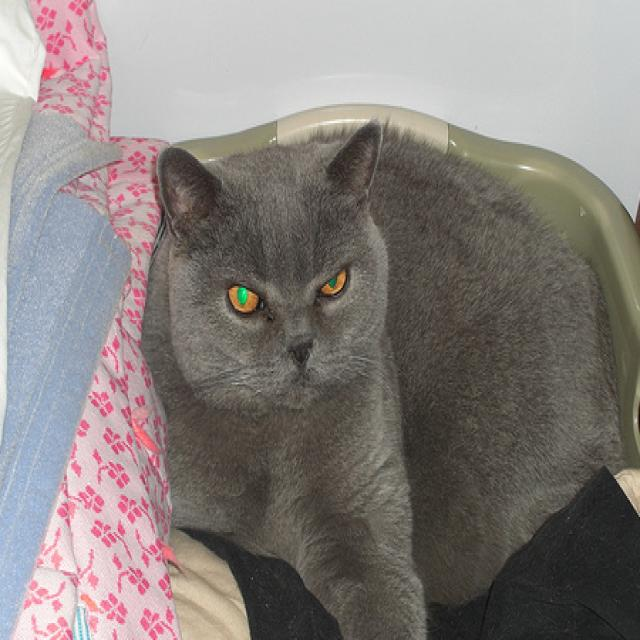British Shorthair: (132, 110, 627, 640)
